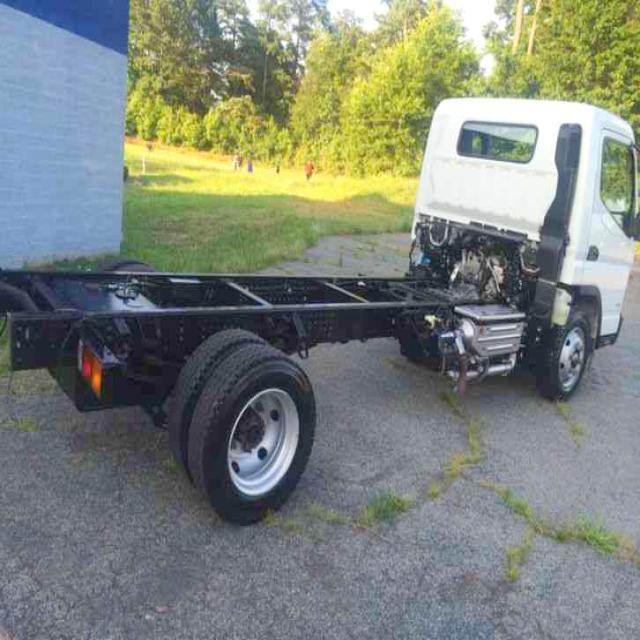truck: (1, 95, 640, 520)
